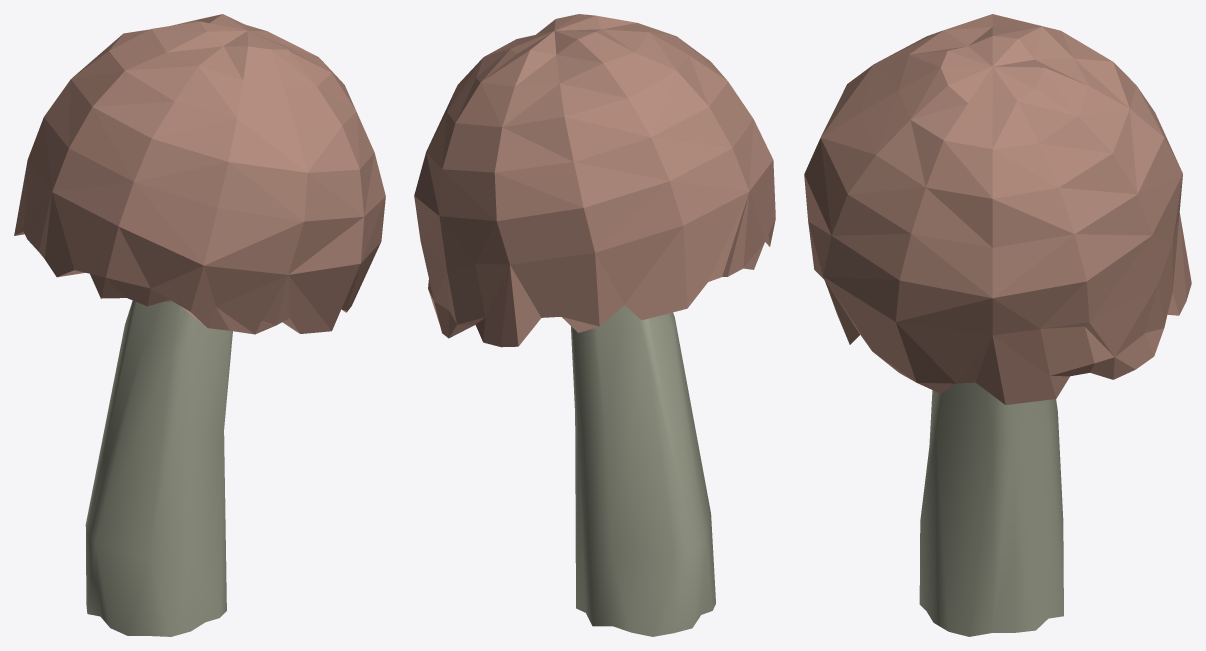
The model's file is spore4.fbx.
The picture shows the model from 3 angles, left to right: view 1: azimuth 30°, elevation 25°; view 2: azimuth 150°, elevation 25°; view 3: azimuth 270°, elevation 25°; orthographic projection. The views are drawn at different scales.
Parts seen in each view (by area): view 1: pSphere5, pCylinder2; view 2: pSphere5, pCylinder2; view 3: pSphere5, pCylinder2.
Part boxes in pixels (x1,y1,x2,y2): pSphere5: (14,14,385,334); pCylinder2: (85,300,232,636); pSphere5: (414,14,775,347); pCylinder2: (571,305,715,636); pSphere5: (804,14,1191,404); pCylinder2: (919,382,1063,636).
Bounding box in the file's own units: 5.6 × 9.66 × 5.69.
